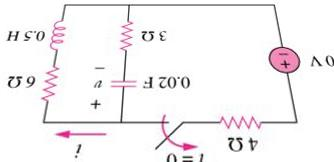inductor: (45, 19, 67, 53)
